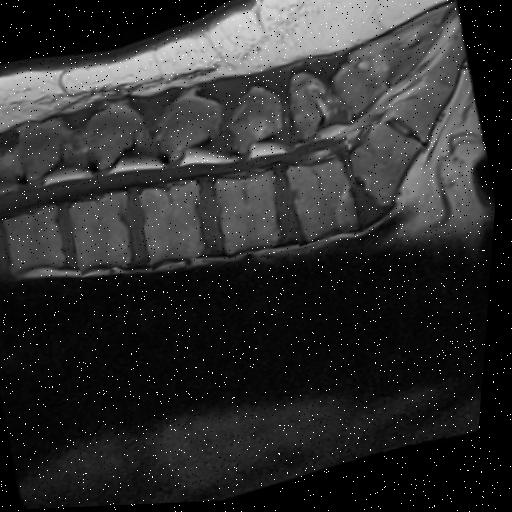L1: (8, 204, 70, 272)
L2: (71, 191, 133, 272)
L3: (142, 180, 210, 265)
L4: (218, 169, 283, 254)
L5: (289, 159, 363, 240)
S1: (353, 124, 424, 207)
